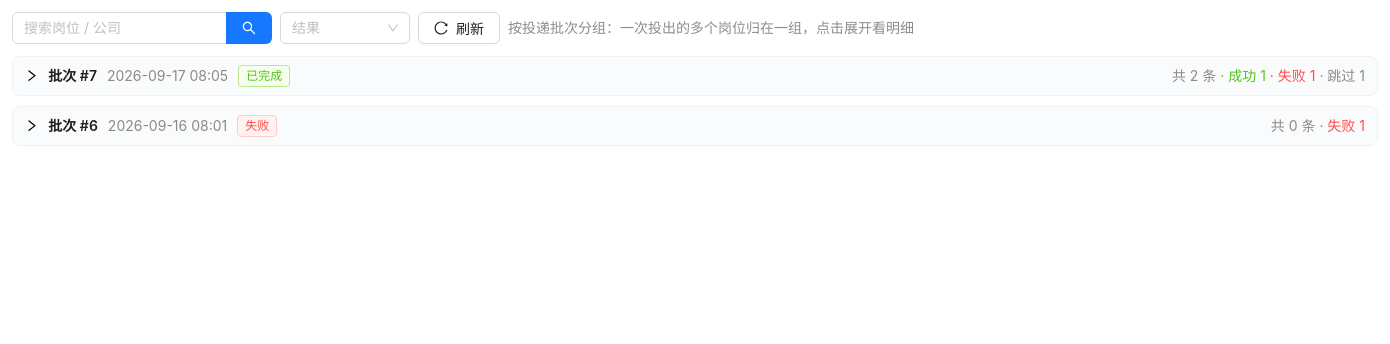
Test: ApplyRecordsPanel (grouped by batch) › expands a batch to reveal its records, then collapses again
What coordinates should you click on to do the following:
click the 1st button with class "apply-records-batch-head"
I would click on:
 (69, 76)
Its box is [13,57,1377,95].
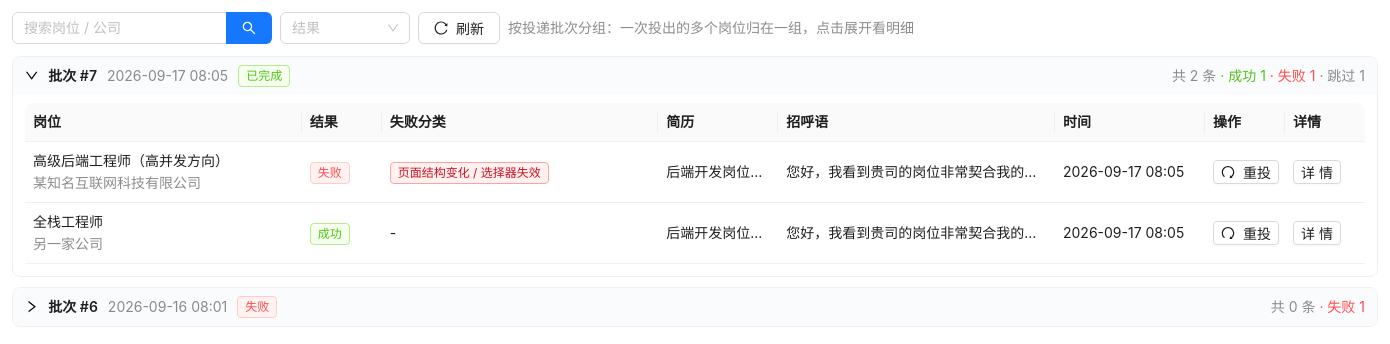
Expected: the text "高级后端工程师（高并发方向）" is shown, [33,150,229,172]
Expected: the text "全栈工程师" is shown, [33,211,103,233]
 再次点击收起。
What coordinates should you click on to do the following:
click the 1st button with class "apply-records-batch-head"
I would click on:
 (69, 76)
Its box is [13,57,1377,95].
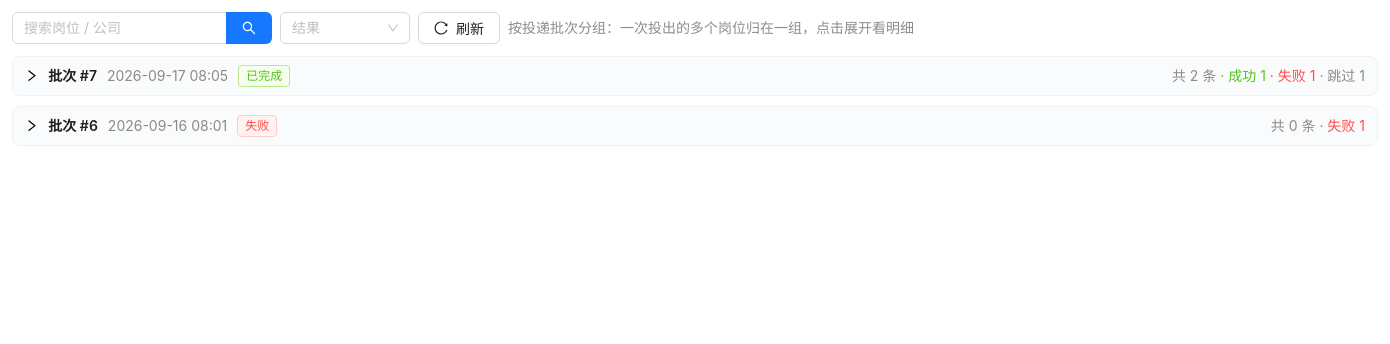
Expected: the text "高级后端工程师（高并发方向）" is gone
